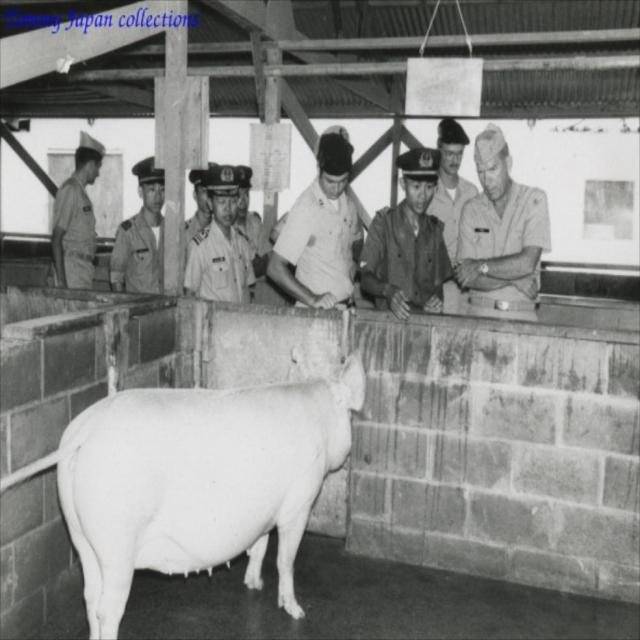Pig: (56, 346, 366, 638)
